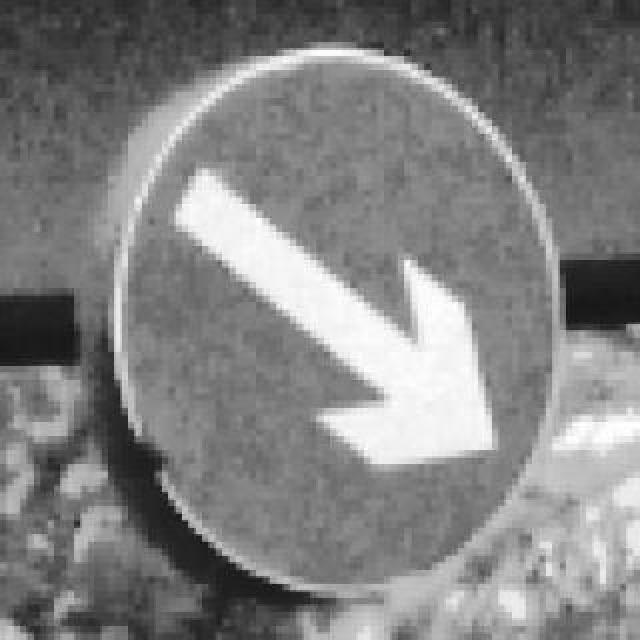keep right: (108, 36, 552, 592)
